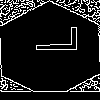L: (24, 25, 77, 54)
